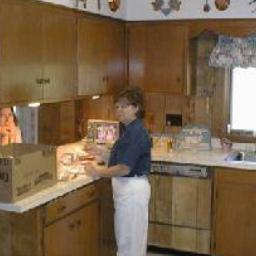Lavaplatos: (220, 137, 256, 172)
